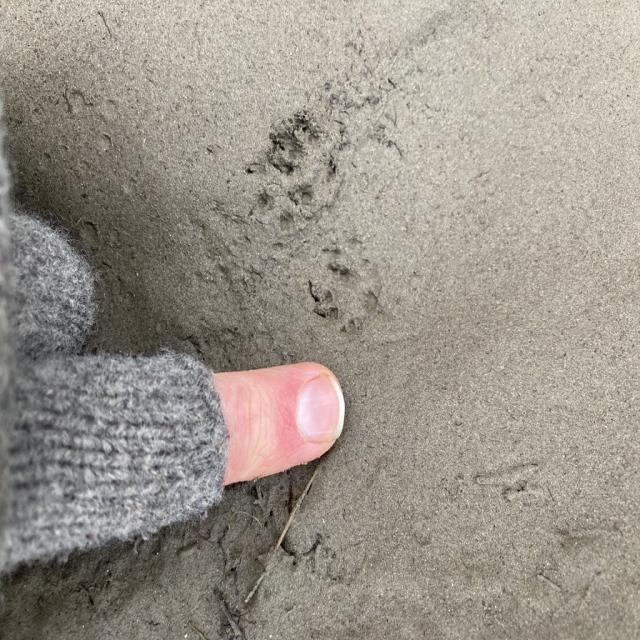mustelid: (253, 111, 345, 216), (316, 257, 388, 344)
